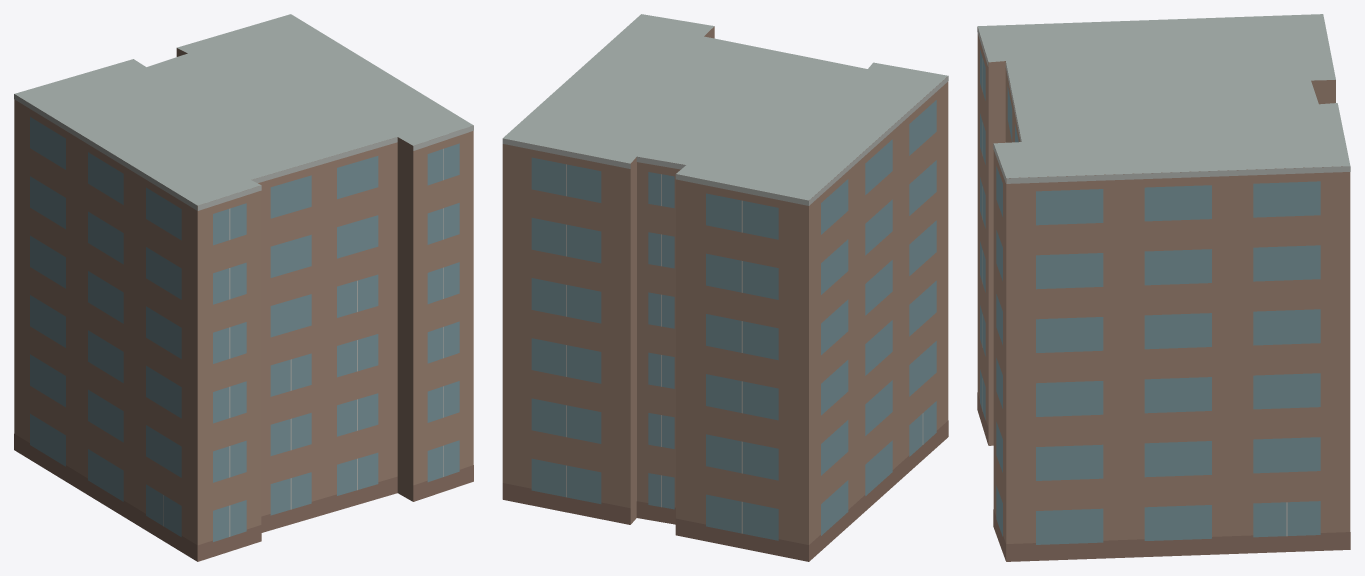
The model's file is survey-upis-32731942.glb.
3 views of the same model, side by side, from view 1: azimuth 30°, elevation 25°; view 2: azimuth 150°, elevation 25°; view 3: azimuth 270°, elevation 25° (orthographic). The views are drawn at different scales.
Parts seen in each view (by area): view 1: survey-upis-32731942.tmp; view 2: survey-upis-32731942.tmp; view 3: survey-upis-32731942.tmp.
Boxes of the visible parts, x1,y1,x2,y2 form: survey-upis-32731942.tmp: (14,14,473,561); survey-upis-32731942.tmp: (502,14,948,561); survey-upis-32731942.tmp: (977,14,1350,561).
Size of the model in its own units: 14.95 by 16.28 by 14.36.
